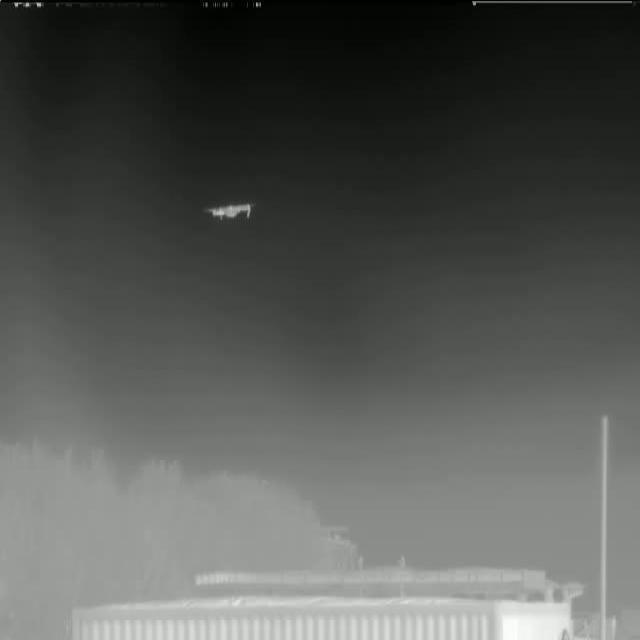DRONE: (199, 192, 260, 234)
